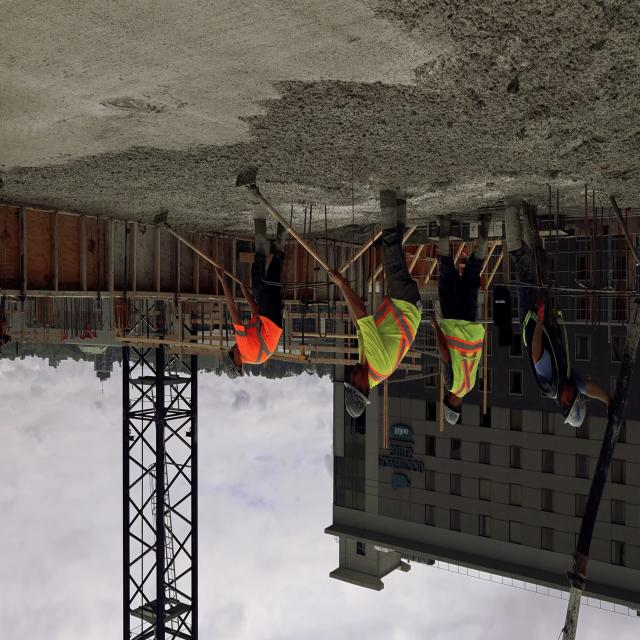Boots: (377, 182, 408, 244), (508, 192, 536, 249), (271, 213, 289, 261), (255, 210, 268, 256)
Helmet: (341, 381, 372, 417), (564, 400, 586, 428), (224, 348, 242, 380), (444, 401, 464, 427)
Vest: (356, 296, 421, 379), (528, 300, 571, 400), (437, 315, 486, 396), (237, 315, 286, 361)
